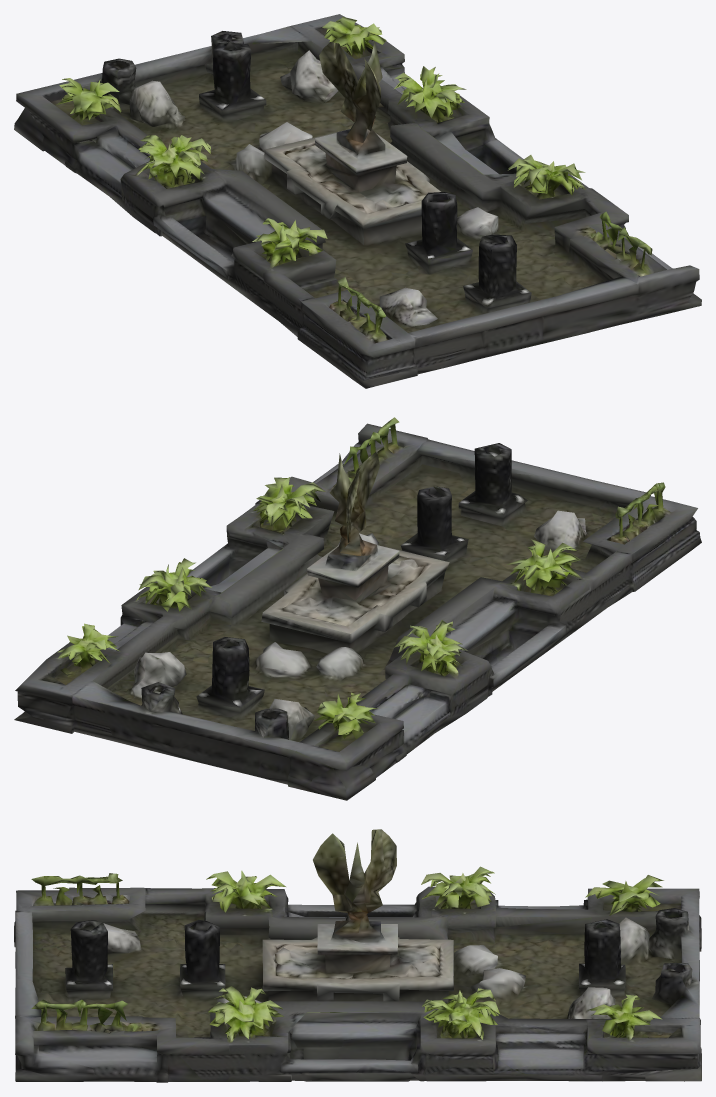
The model's file is taman_depan_ballram.glb.
3 renders of one model, top to bottom at view 1: azimuth 30°, elevation 25°; view 2: azimuth 150°, elevation 25°; view 3: azimuth 270°, elevation 25°, orthographic. The views are drawn at different scales.
Visible parts, largest first — view 1: tripo_node_6f897591-90fe-45d0-8e92-c9ea967e309f; view 2: tripo_node_6f897591-90fe-45d0-8e92-c9ea967e309f; view 3: tripo_node_6f897591-90fe-45d0-8e92-c9ea967e309f.
Part boxes in pixels (x1=…): tripo_node_6f897591-90fe-45d0-8e92-c9ea967e309f: x1=14, y1=14, x2=701, y2=388; tripo_node_6f897591-90fe-45d0-8e92-c9ea967e309f: x1=14, y1=417, x2=701, y2=800; tripo_node_6f897591-90fe-45d0-8e92-c9ea967e309f: x1=14, y1=829, x2=701, y2=1082.
Size of the model in its own units: 0.5537 by 0.2815 by 1.
Materials: 1 (1 with a texture image).
